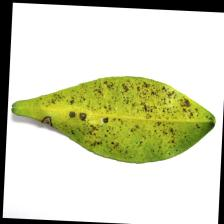canker: (33, 92, 202, 141)
